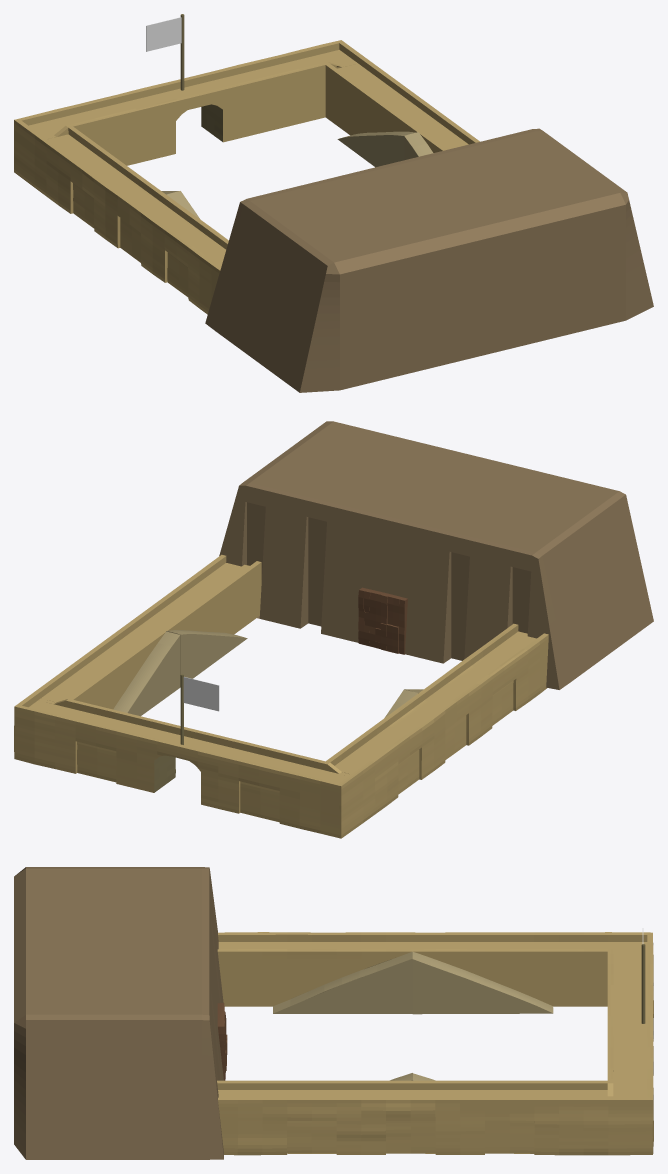
Rendered from fort.fbx.
The picture shows the model from 3 angles, top to bottom: view 1: azimuth 30°, elevation 25°; view 2: azimuth 150°, elevation 25°; view 3: azimuth 270°, elevation 25°; orthographic projection. The views are drawn at different scales.
Visible parts, largest first — view 1: Cylinder, Flag (changes color); view 2: Cylinder, Flag (changes color); view 3: Cylinder.
Boxes of the visible parts, x1,y1,x2,y2 form: Cylinder: (14, 14, 653, 392); Flag (changes color): (146, 17, 181, 51); Cylinder: (14, 421, 653, 838); Flag (changes color): (183, 677, 219, 711); Cylinder: (14, 867, 653, 1159).
Bounding box in the file's own units: 5025 × 1682 × 7504.
